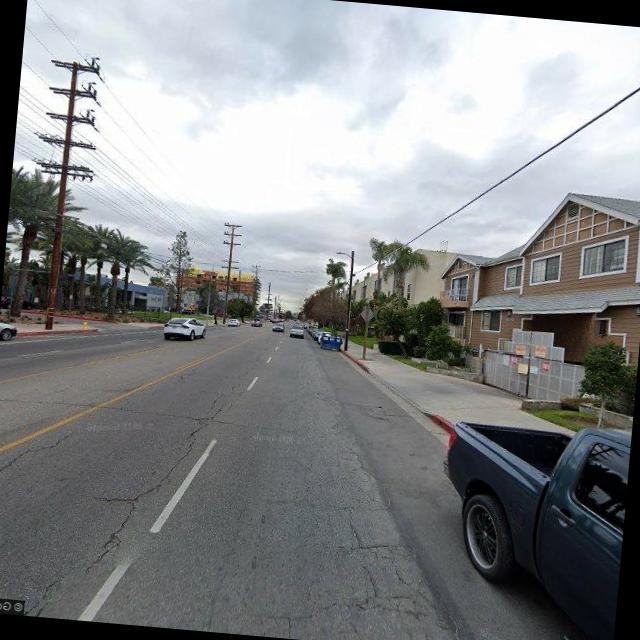crack: (93, 368, 245, 569), (0, 383, 299, 439), (0, 419, 73, 486)
